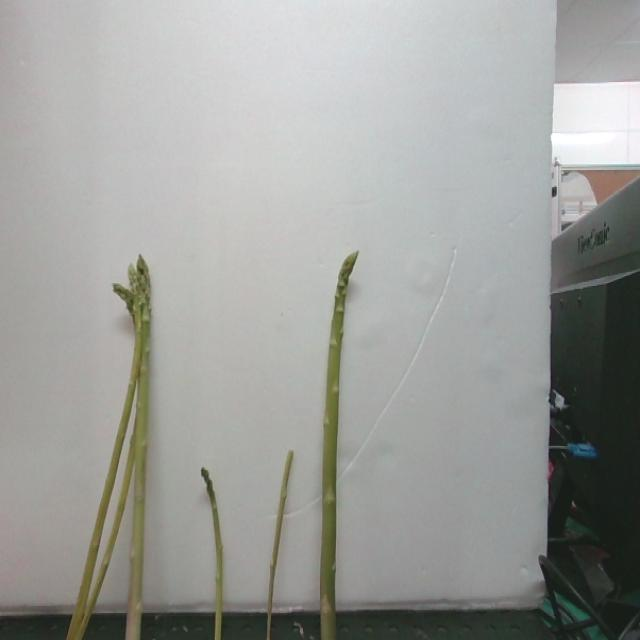aspargus: (322, 255, 359, 640), (263, 451, 295, 640), (201, 469, 227, 640)
